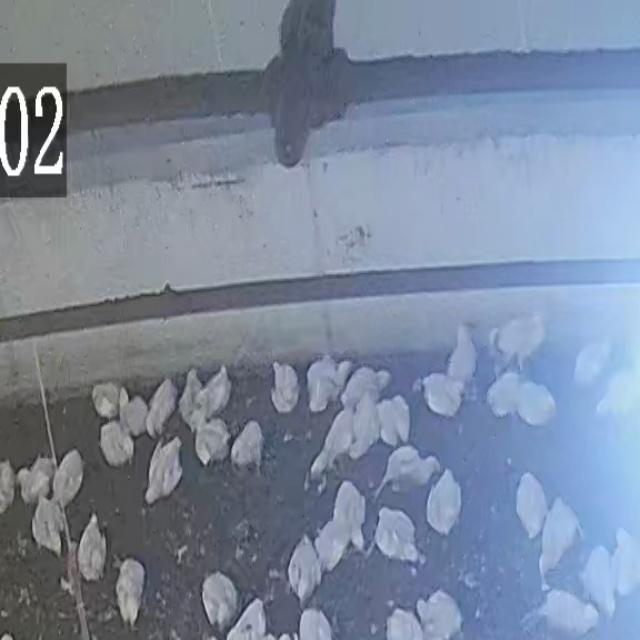chicken: (308, 408, 355, 484), (539, 498, 582, 578), (376, 446, 438, 498), (373, 506, 421, 566), (144, 437, 185, 507), (537, 588, 596, 636), (578, 545, 616, 619), (495, 312, 546, 366), (425, 467, 462, 537), (201, 570, 241, 632), (114, 554, 146, 630), (415, 589, 463, 639), (288, 535, 322, 604), (32, 493, 68, 558), (335, 484, 367, 557), (515, 472, 549, 540), (348, 390, 381, 460), (195, 363, 234, 422), (76, 514, 108, 582), (144, 376, 178, 439), (446, 323, 478, 388), (421, 372, 465, 419), (314, 517, 350, 574), (16, 455, 55, 507), (51, 449, 84, 509), (223, 597, 270, 639), (598, 369, 638, 418), (376, 395, 413, 447), (613, 526, 640, 596), (573, 338, 612, 385), (517, 383, 555, 431), (196, 416, 229, 471), (341, 366, 383, 409), (99, 419, 135, 469), (486, 376, 523, 421), (308, 357, 335, 415), (231, 424, 263, 472), (119, 394, 150, 440), (91, 381, 125, 421), (178, 369, 201, 428), (386, 607, 422, 640), (298, 607, 335, 638), (269, 366, 296, 408), (0, 460, 16, 514), (327, 356, 352, 390)
